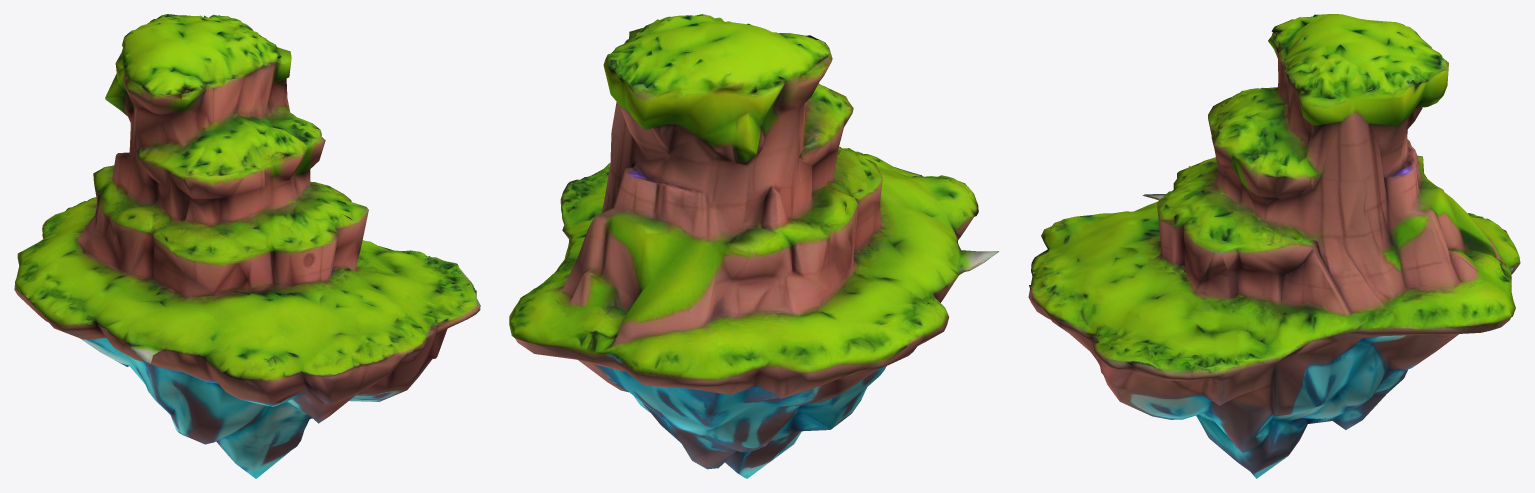
File: mesa-cluster.glb
3 views of the same model, side by side, from view 1: azimuth 30°, elevation 25°; view 2: azimuth 150°, elevation 25°; view 3: azimuth 270°, elevation 25° (orthographic). The views are drawn at different scales.
Visible parts, largest first — view 1: Mesh_0; view 2: Mesh_0; view 3: Mesh_0.
Part boxes in pixels (x1,y1,x2,y2): Mesh_0: (14, 14, 480, 478); Mesh_0: (509, 14, 998, 478); Mesh_0: (1028, 14, 1520, 478).
Bounding box in the file's own units: 12.77 × 14 × 14.29.
Materials: 1 (1 with a texture image).
